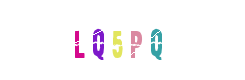5: (82, 0, 162, 80)
L: (51, 0, 131, 80)
P: (90, 0, 170, 80)
Q: (77, 0, 157, 80), (116, 0, 196, 80)
